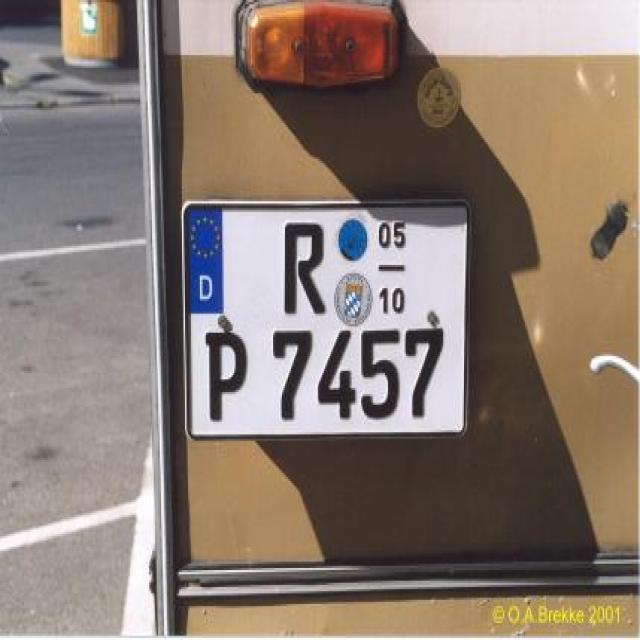License_Plate: (181, 198, 474, 438)
